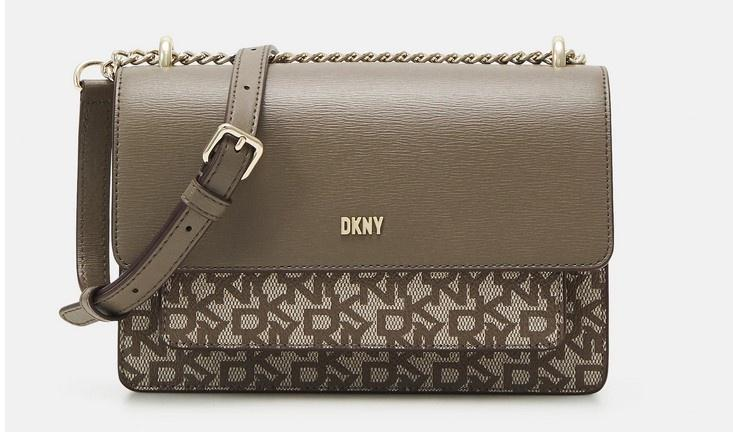DKNY: (341, 216, 384, 234)
